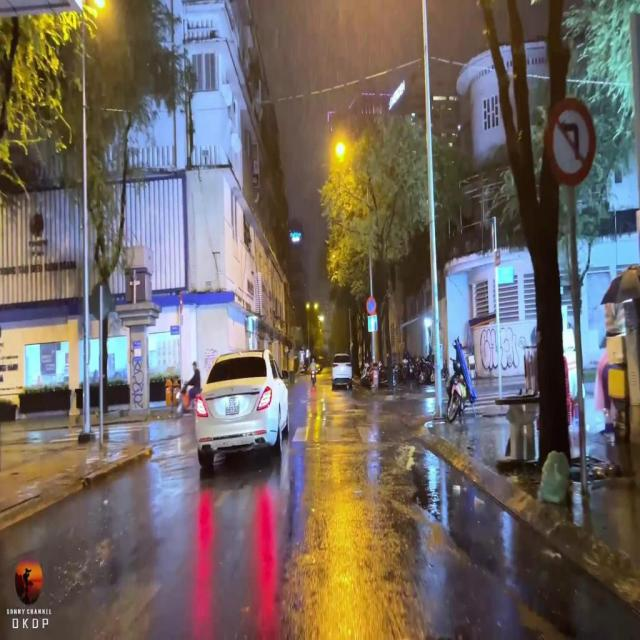cam_do_xe: (366, 296, 377, 316)
cam_re_trai: (544, 100, 596, 188)
duong_mot_chieu: (368, 315, 377, 332)
